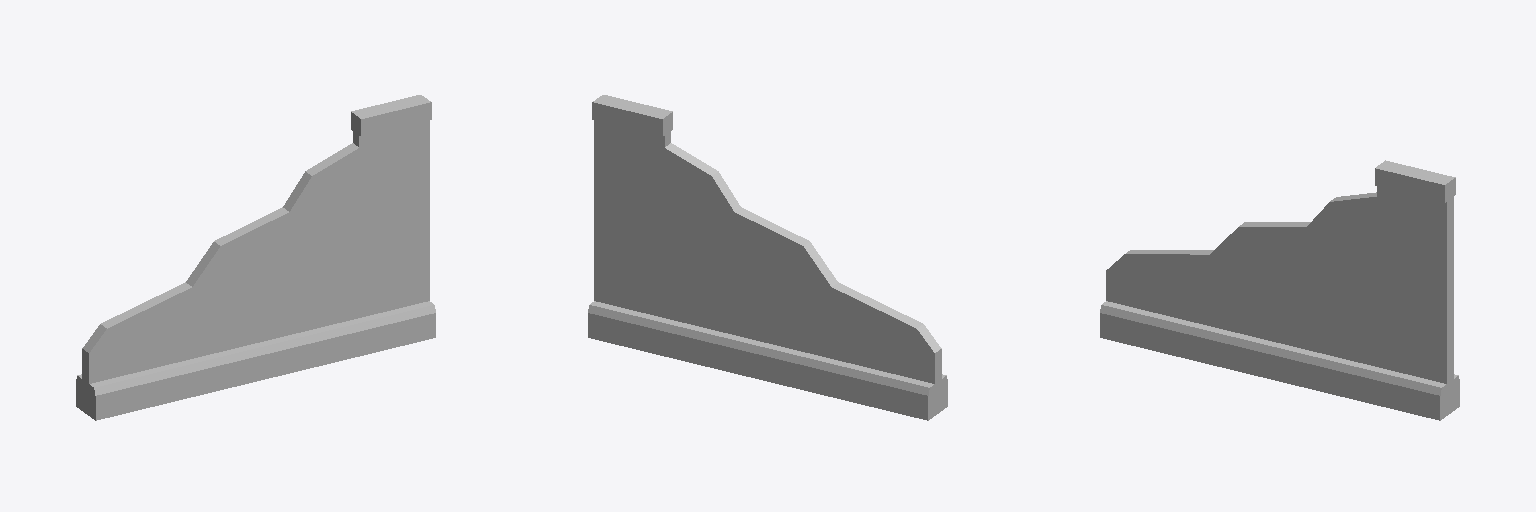
The model's file is stoneWallDamaged.obj.
3 views of the same model, side by side, from view 1: azimuth 30°, elevation 25°; view 2: azimuth 150°, elevation 25°; view 3: azimuth 330°, elevation 25° (orthographic).
Parts seen in each view (by area): view 1: stoneWallDamaged; view 2: stoneWallDamaged; view 3: stoneWallDamaged.
Boxes of the visible parts, <box> form: stoneWallDamaged: <box>76,95,435,420</box>; stoneWallDamaged: <box>588,95,947,420</box>; stoneWallDamaged: <box>1100,160,1459,420</box>.
Bounding box in the file's own units: 1 × 0.6519 × 0.1.